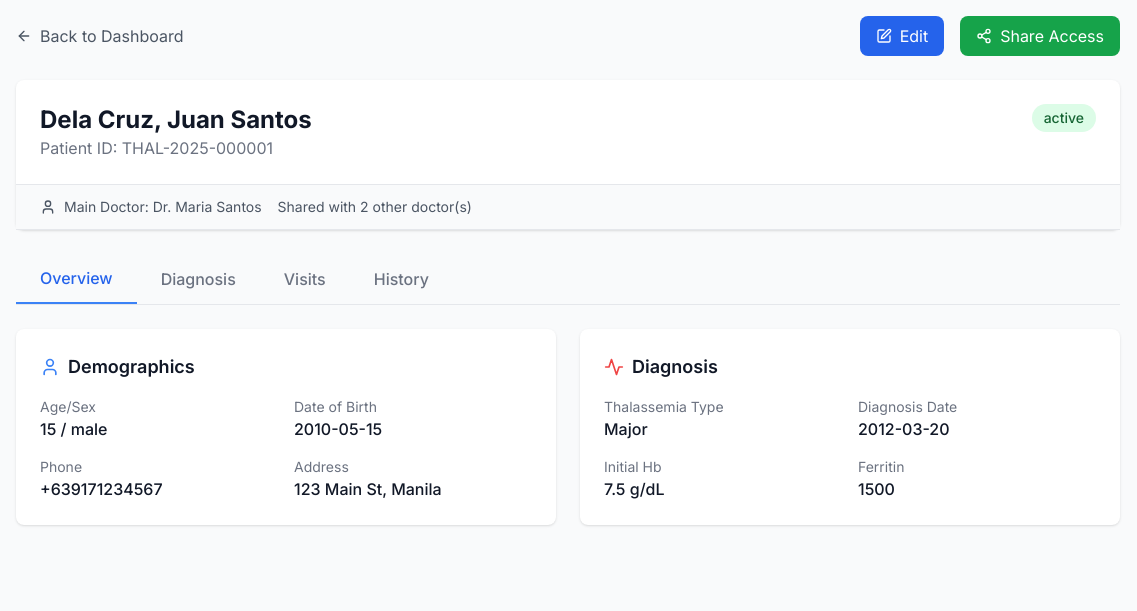
it: PatientDetail (Req 4.1, 4.2 - Patient Data & Access Control) › Audit History Tab (Req 4.1 Edit Log / Req 5 Scenario 4) › should display audit logs with timestamp and editor name when History tab clicked
Click the button "History" at (401, 279), box [350,254,453,304]
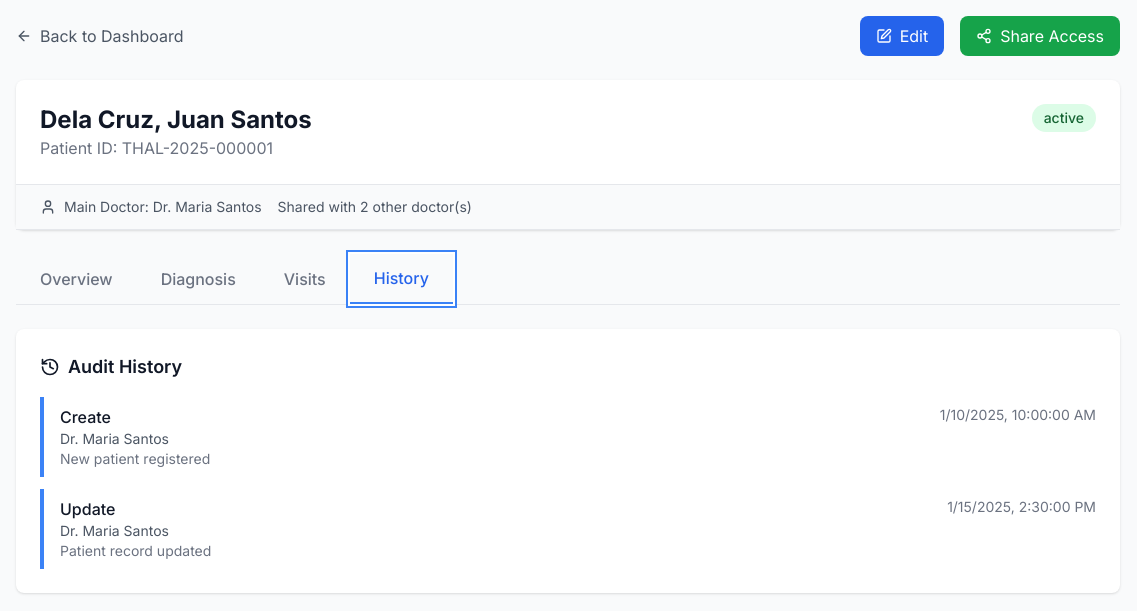
Expected: the heading "Audit History" is shown, [40,356,182,377]
